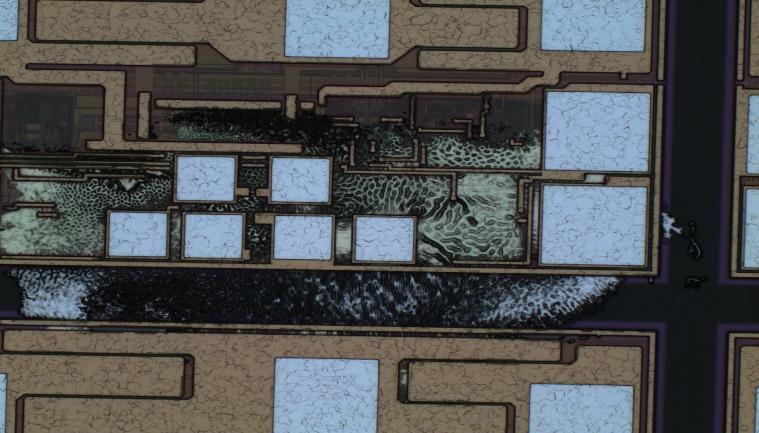BLOCK ETCH: (1, 106, 683, 356)
